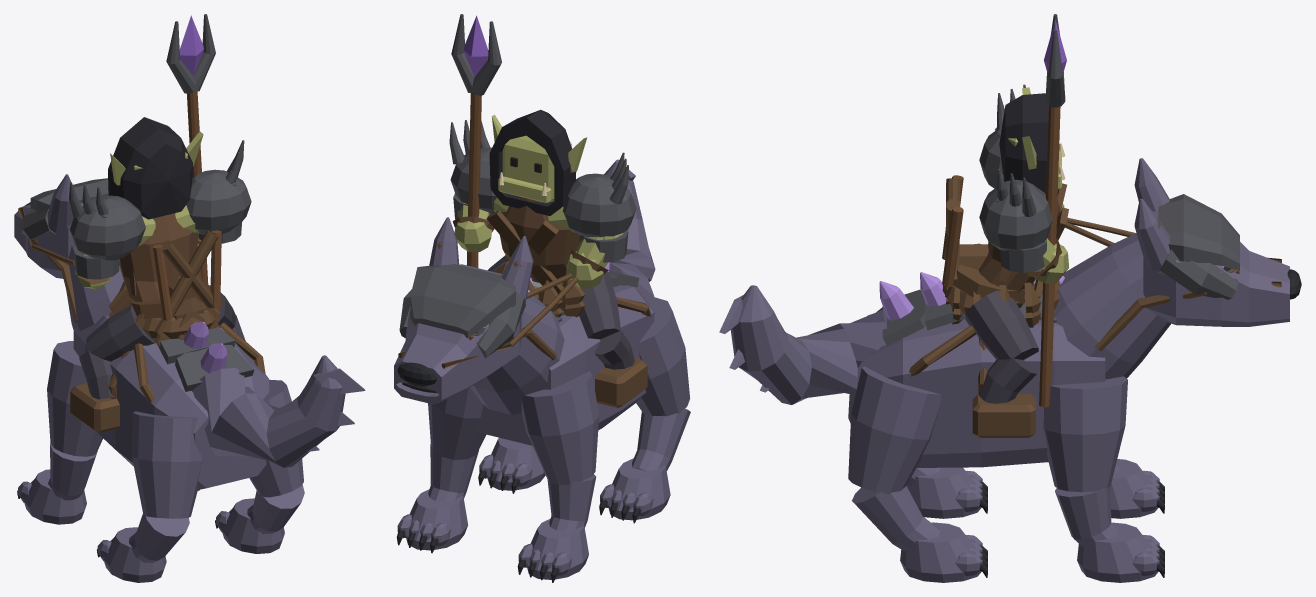
The model's file is host_37.glb.
3 renders of one model, left to right at view 1: azimuth 30°, elevation 25°; view 2: azimuth 150°, elevation 25°; view 3: azimuth 270°, elevation 25°, orthographic. The views are drawn at different scales.
Parts seen in each view (by area): view 1: V6 wolf source broad bushy curled tail, V6 mount continuous anatomical thorax, V6 mount anatomical thigh BL, V6 source fitted domed cloth hood, V6 mount anatomical thigh FL, V6 wolf rider source thick fitted spiked pauldron L, V6 rider source seated thorax, V6 wolf rider source thick fitted spiked pauldron R, V6 rider actual connected seated thigh L, V6 mount anatomical thigh BR, V6 mount anatomical paw FL, V6 mount anatomical shin BL (+30 smaller); view 2: V6 mount anatomical thigh FL, V6 wolf continuous fitted source brow crown, V6 mount continuous anatomical thorax, V6 wolf source faceted skull, V6 wolf curved muscular neck, V6 mount anatomical thigh BL, V6 source fitted domed cloth hood, V6 wolf rider source thick fitted spiked pauldron L, V6 mount anatomical thigh FR, V6 rider source seated thorax, V6 mount anatomical shin BL, V6 wolf source broad bushy curled tail (+28 smaller); view 3: V6 mount continuous anatomical thorax, V6 wolf source broad bushy curled tail, V6 wolf curved muscular neck, V6 mount anatomical thigh BR, V6 mount anatomical thigh FR, V6 wolf source faceted skull, V6 wolf continuous fitted source brow crown, V6 source fitted domed cloth hood, V6 wolf rider source thick fitted spiked pauldron R, V6 rider actual connected seated thigh R, V6 mount anatomical shin BR, V6 source continuous held spear shaft (+20 smaller).
Boxes of the visible parts, x1=… form: V6 wolf source broad bushy curled tail: x1=192, y1=355, x2=345, y2=467; V6 mount continuous anatomical thorax: x1=73, y1=315, x2=269, y2=489; V6 mount anatomical thigh BL: x1=132, y1=411, x2=202, y2=518; V6 source fitted domed cloth hood: x1=108, y1=117, x2=192, y2=219; V6 mount anatomical thigh FL: x1=47, y1=341, x2=102, y2=456; V6 wolf rider source thick fitted spiked pauldron L: x1=70, y1=195, x2=145, y2=260; V6 rider source seated thorax: x1=119, y1=213, x2=198, y2=301; V6 wolf rider source thick fitted spiked pauldron R: x1=186, y1=169, x2=251, y2=234; V6 rider actual connected seated thigh L: x1=86, y1=304, x2=155, y2=361; V6 mount anatomical thigh BR: x1=249, y1=379, x2=303, y2=497; V6 mount anatomical paw FL: x1=23, y1=469, x2=86, y2=524; V6 mount anatomical shin BL: x1=129, y1=514, x2=189, y2=562; V6 mount anatomical thigh FL: x1=521, y1=370, x2=598, y2=484; V6 wolf continuous fitted source brow crown: x1=410, y1=264, x2=515, y2=338; V6 mount continuous anatomical thorax: x1=473, y1=285, x2=654, y2=445; V6 wolf source faceted skull: x1=394, y1=264, x2=521, y2=404; V6 wolf curved muscular neck: x1=470, y1=296, x2=564, y2=414; V6 mount anatomical thigh BL: x1=636, y1=297, x2=690, y2=416; V6 source fitted domed cloth hood: x1=489, y1=109, x2=576, y2=215; V6 wolf rider source thick fitted spiked pauldron L: x1=563, y1=173, x2=636, y2=237; V6 mount anatomical thigh FR: x1=428, y1=387, x2=485, y2=459; V6 rider source seated thorax: x1=495, y1=196, x2=580, y2=282; V6 mount anatomical shin BL: x1=632, y1=408, x2=690, y2=471; V6 wolf source broad bushy curled tail: x1=604, y1=159, x2=655, y2=298; V6 mount continuous anatomical thorax: x1=857, y1=318, x2=1105, y2=467; V6 wolf source broad bushy curled tail: x1=730, y1=285, x2=886, y2=404; V6 wolf curved muscular neck: x1=1042, y1=233, x2=1170, y2=379; V6 mount anatomical thigh BR: x1=848, y1=366, x2=940, y2=494; V6 mount anatomical thigh FR: x1=1043, y1=376, x2=1127, y2=492; V6 wolf source faceted skull: x1=1143, y1=211, x2=1289, y2=326; V6 wolf continuous fitted source brow crown: x1=1158, y1=194, x2=1239, y2=270; V6 source fitted domed cloth hood: x1=999, y1=93, x2=1048, y2=194; V6 wolf rider source thick fitted spiked pauldron R: x1=979, y1=179, x2=1052, y2=250; V6 rider actual connected seated thigh R: x1=965, y1=290, x2=1038, y2=359; V6 mount anatomical shin BR: x1=852, y1=486, x2=939, y2=551; V6 source continuous held spear shaft: x1=1039, y1=106, x2=1060, y2=407.
Size of the model in its own units: 0.884 by 2.38 by 2.3.
